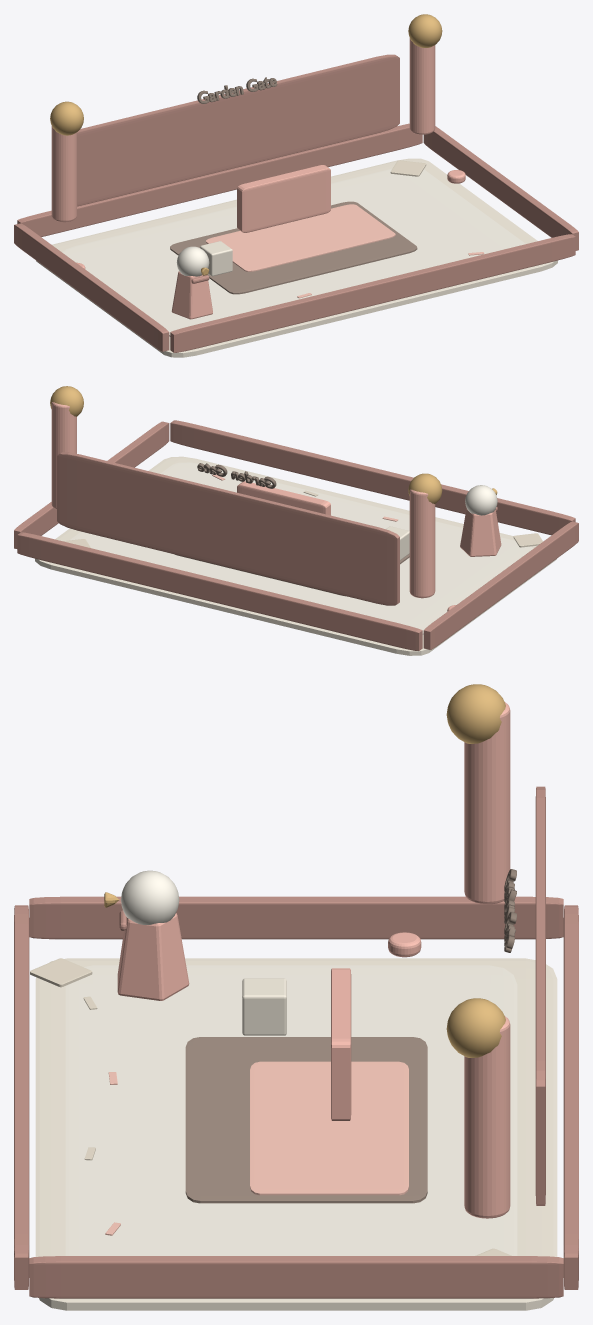
The model's file is 16_physical_puzzle.glb.
The picture shows the model from 3 angles, top to bottom: view 1: azimuth 30°, elevation 25°; view 2: azimuth 150°, elevation 25°; view 3: azimuth 270°, elevation 25°; orthographic projection. The views are drawn at different scales.
Parts seen in each view (by area): view 1: BackCard, FloorLayerInset, SouthRail-col, NorthRail-col, PaperFloor-col, StageMatHighlight, StageMat, GardenGate-col, WestRail-col, EastRail-col, PaperLantern.001, FpeRushPlayer (+6 smaller); view 2: BackCard, FloorLayerInset, NorthRail-col, SouthRail-col, PaperFloor-col, WestRail-col, PaperLantern, FpeRushPlayer, EastRail-col, PaperLantern.001, GardenGate-col, TitleLabel (+3 smaller); view 3: FloorLayerInset, PaperFloor-col, EastRail-col, StageMatHighlight, WestRail-col, StageMat, PaperLantern.001, PaperLantern, FpeRushPlayer, NorthRail-col, SouthRail-col, BackCard (+6 smaller).
Boxes of the visible parts, x1,y1,x2,y2 form: BackCard: (77, 54, 399, 206); FloorLayerInset: (62, 168, 525, 336); SouthRail-col: (170, 234, 575, 352); NorthRail-col: (17, 123, 422, 236); PaperFloor-col: (36, 158, 557, 357); StageMatHighlight: (206, 204, 395, 271); StageMat: (170, 201, 417, 294); GardenGate-col: (237, 165, 330, 232); WestRail-col: (14, 223, 169, 351); EastRail-col: (423, 126, 578, 250); PaperLantern.001: (409, 38, 435, 134); FpeRushPlayer: (171, 246, 212, 319); BackCard: (57, 452, 399, 605); FloorLayerInset: (70, 462, 533, 634); NorthRail-col: (17, 532, 422, 650); SouthRail-col: (170, 420, 575, 535); PaperFloor-col: (35, 456, 556, 655); WestRail-col: (423, 521, 578, 649); PaperLantern: (409, 489, 435, 598); FpeRushPlayer: (460, 485, 501, 556); EastRail-col: (14, 421, 169, 548); PaperLantern.001: (51, 402, 76, 509); GardenGate-col: (237, 481, 330, 515); TitleLabel: (197, 463, 276, 488); FloorLayerInset: (65, 965, 517, 1255); PaperFloor-col: (35, 958, 557, 1310); EastRail-col: (29, 1256, 563, 1298); StageMatHighlight: (250, 1061, 408, 1195); WestRail-col: (29, 896, 563, 939); StageMat: (185, 1037, 427, 1203); PaperLantern.001: (464, 1016, 510, 1218); PaperLantern: (464, 702, 510, 904); FpeRushPlayer: (104, 870, 189, 1000); NorthRail-col: (563, 905, 578, 1289); SouthRail-col: (14, 905, 29, 1289); BackCard: (535, 786, 545, 1205).
Size of the model in its own units: 6.8 by 2.56 by 4.44.
